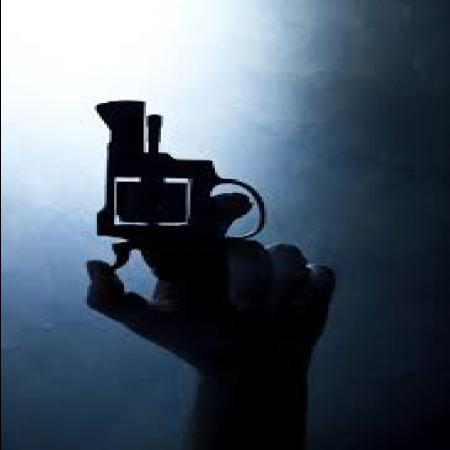Pistol: (81, 100, 335, 346)
